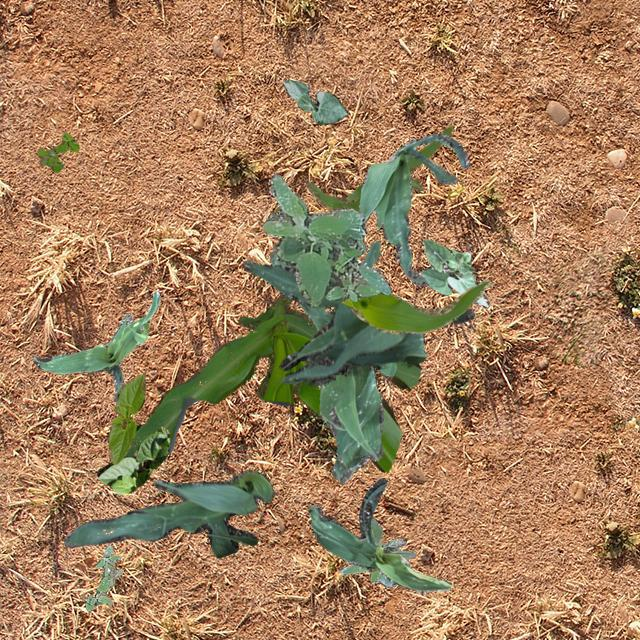crop: (123, 293, 420, 472), (306, 124, 490, 332), (242, 240, 474, 384), (268, 250, 394, 482), (64, 469, 274, 556), (356, 132, 470, 286), (308, 478, 452, 592), (33, 288, 158, 404), (95, 426, 168, 492), (418, 238, 488, 306), (108, 372, 144, 463), (282, 80, 346, 124)
weed: (262, 172, 391, 304), (338, 516, 414, 586), (84, 544, 122, 610), (36, 132, 78, 172)
